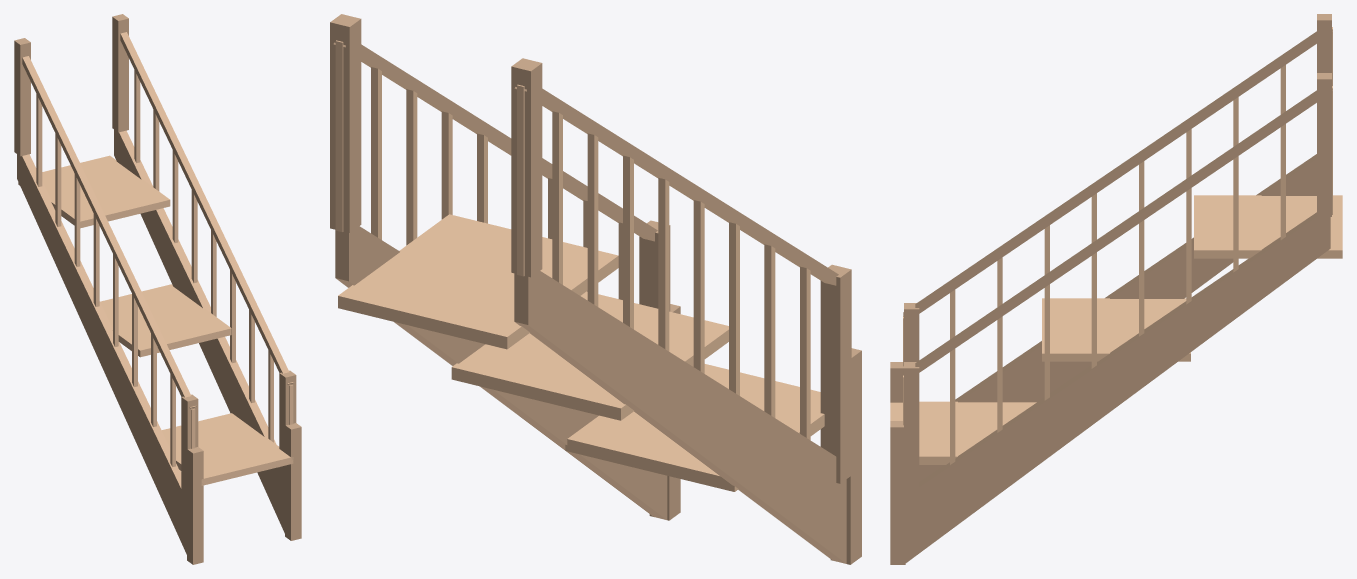
File: stairOakOpen.glb
3 renders of one model, left to right at view 1: azimuth 30°, elevation 25°; view 2: azimuth 150°, elevation 25°; view 3: azimuth 270°, elevation 25°, orthographic. The views are drawn at different scales.
Visible parts, largest first — view 1: stairOakOpen; view 2: stairOakOpen; view 3: stairOakOpen.
Boxes of the visible parts, box(x1,y1,x2,y2) form: stairOakOpen: box(14, 14, 301, 564); stairOakOpen: box(330, 14, 861, 564); stairOakOpen: box(890, 14, 1342, 564).
Size of the model in its own units: 0.51 by 1.76 by 1.49.
